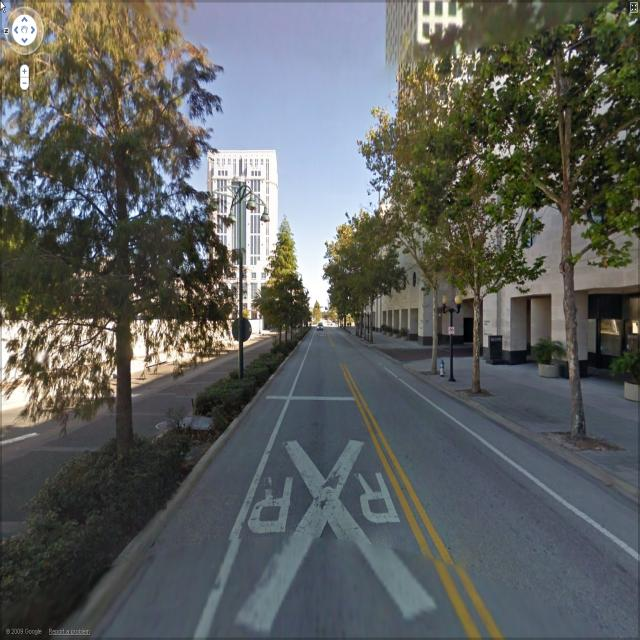b_1: (206, 145, 282, 273)
b_2: (342, 1, 640, 403), (1, 226, 228, 352), (200, 142, 307, 338)
